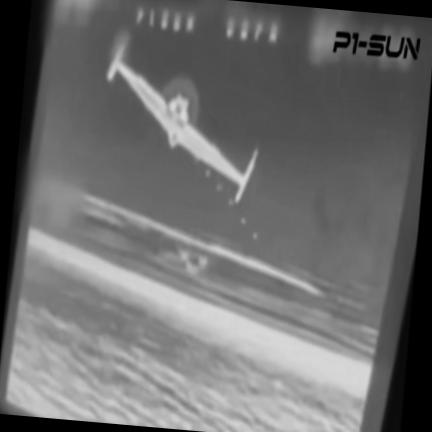Shahed: (107, 37, 258, 203)
